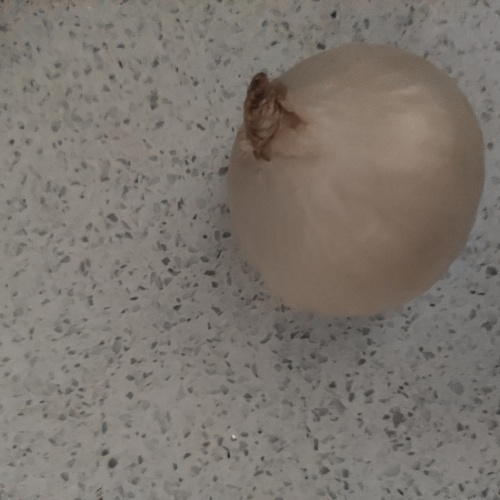cipolla: (218, 31, 487, 325)
